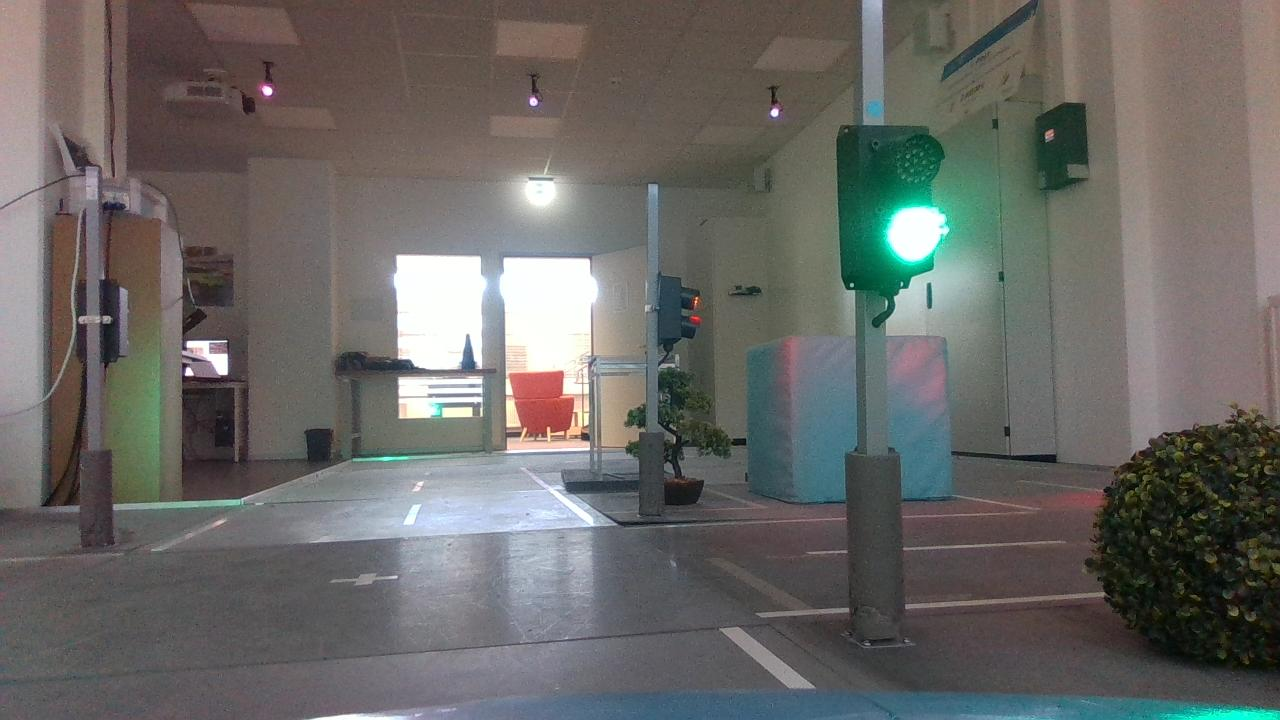traffic_light_green: (824, 114, 957, 291)
